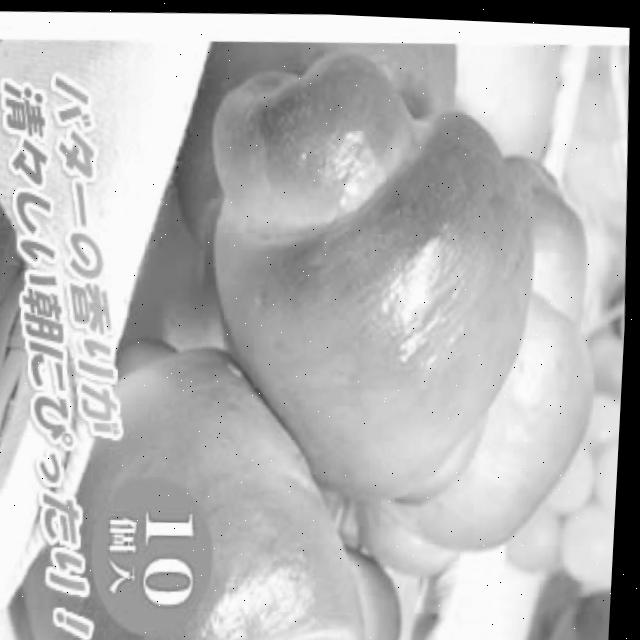面包点心: (168, 40, 622, 567)
